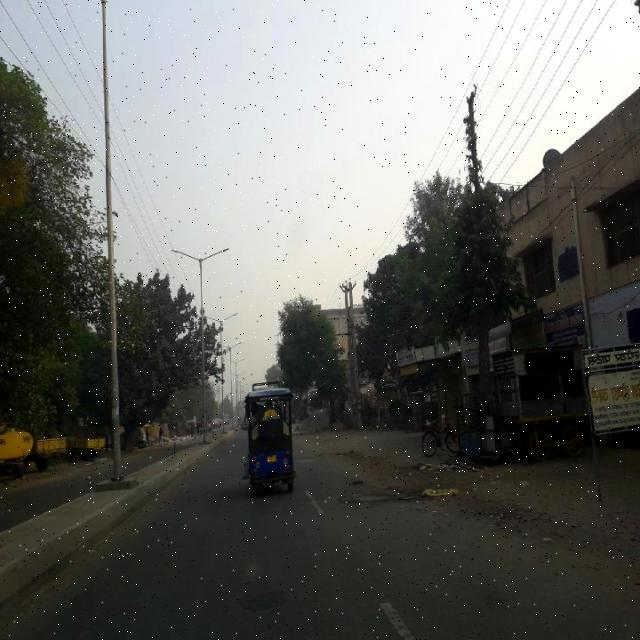D44: (376, 598, 421, 638)
